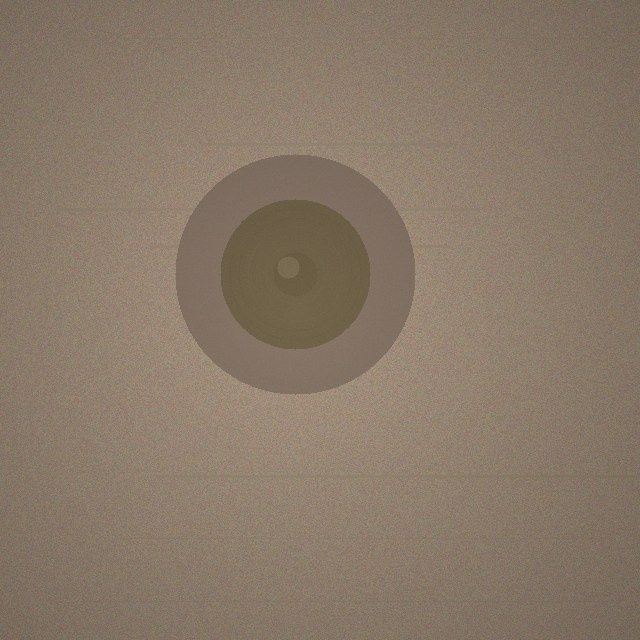good: (175, 154, 415, 394)
